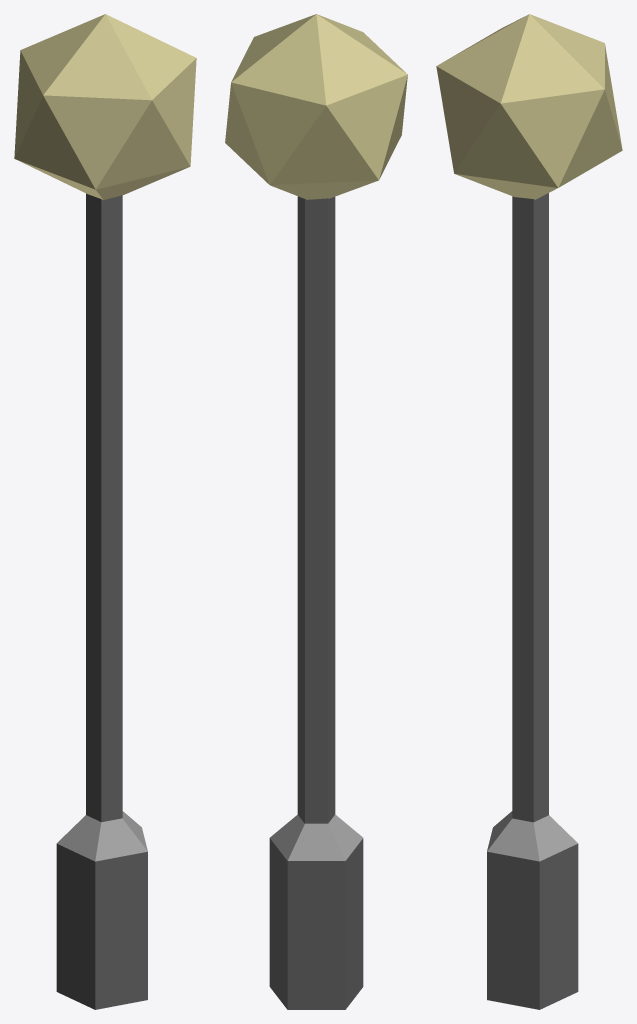
Rendered from pillar_008.glb.
3 renders of one model, left to right at view 1: azimuth 30°, elevation 25°; view 2: azimuth 150°, elevation 25°; view 3: azimuth 270°, elevation 25°, orthographic.
Visible parts, largest first — view 1: pillar_008; view 2: pillar_008; view 3: pillar_008.
Part boxes in pixels (box(x1,y1,x2,y2)): pillar_008: box(14, 14, 196, 1009); pillar_008: box(225, 14, 407, 1009); pillar_008: box(436, 14, 622, 1009).
Bounding box in the file's own units: 0.4704 × 2.86 × 0.4946.
1 material, 1 textured.
